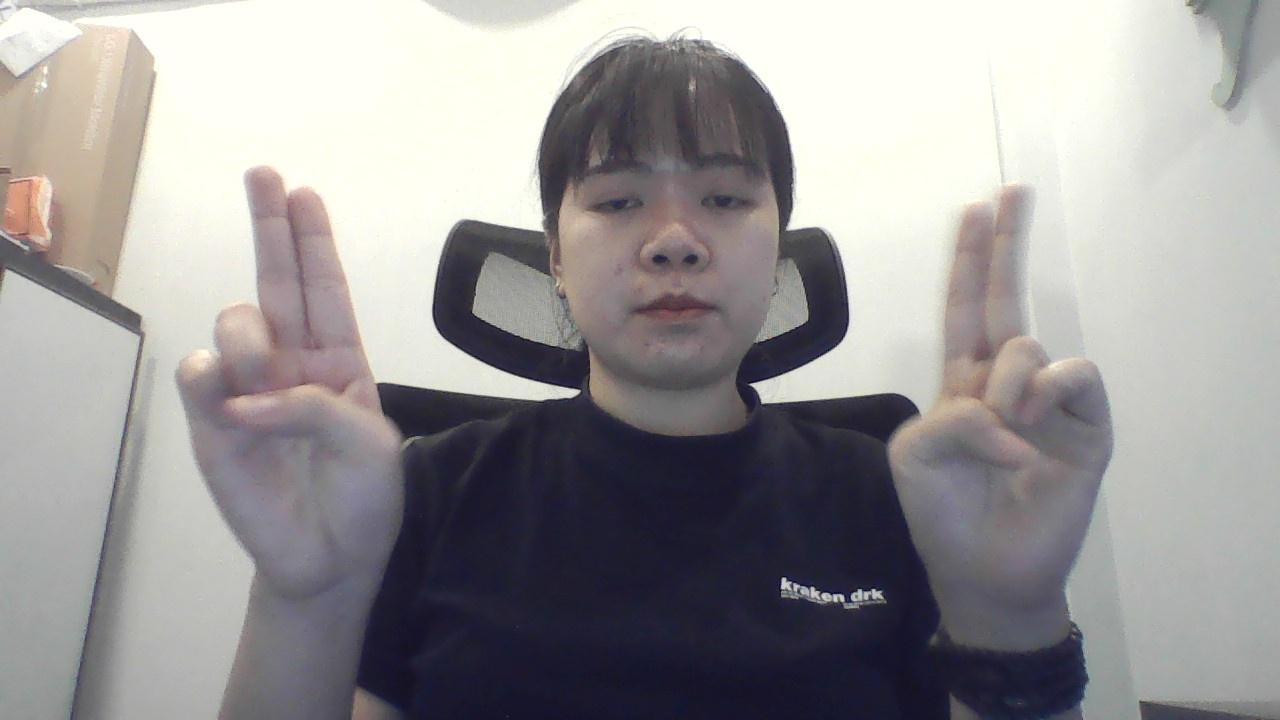U: (137, 150, 420, 620), (897, 155, 1112, 621)
